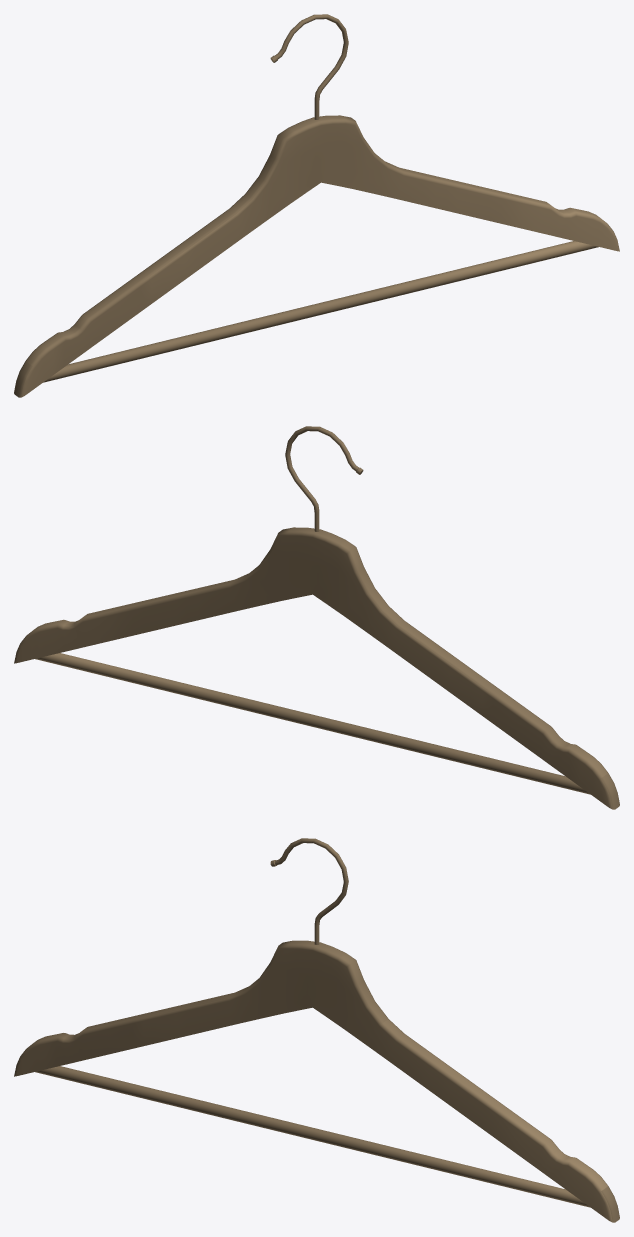
Rendered from hanger.glb.
The picture shows the model from 3 angles, top to bottom: view 1: azimuth 30°, elevation 25°; view 2: azimuth 150°, elevation 25°; view 3: azimuth 330°, elevation 25°; orthographic projection.
Parts seen in each view (by area): view 1: hanger; view 2: hanger; view 3: hanger.
Boxes of the visible parts, x1,y1,x2,y2 form: hanger: (14,14,619,397); hanger: (14,426,619,809); hanger: (14,838,619,1222).
Bounding box in the file's own units: 0.4298 × 0.2107 × 0.0103.
1 material, 1 textured.
